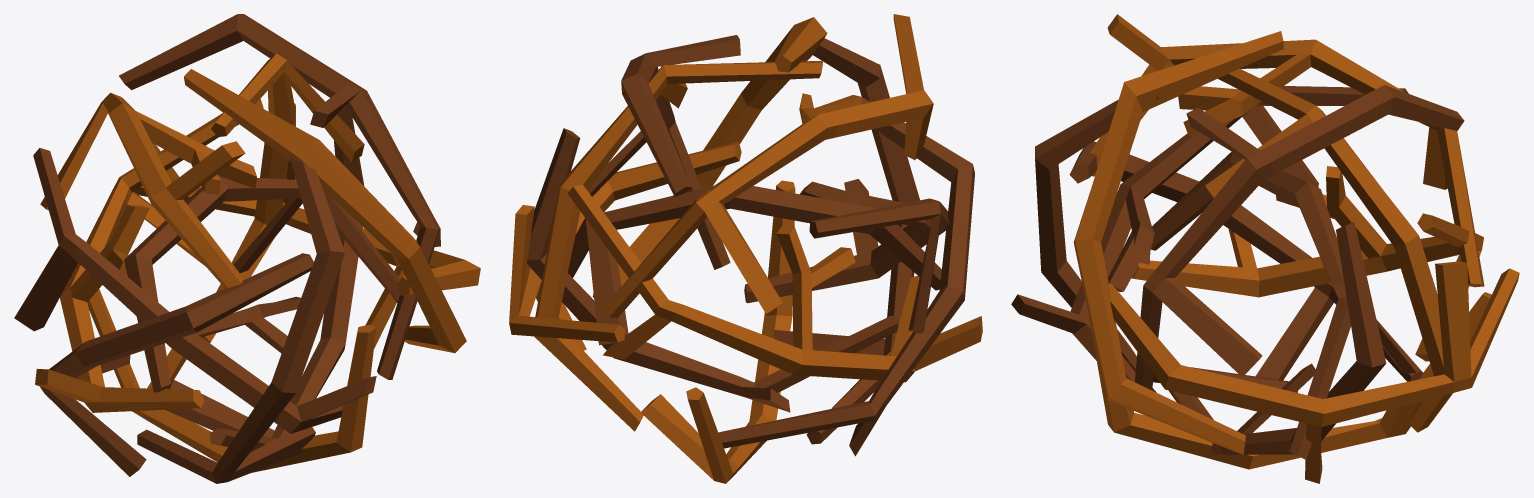
The model's file is Bola_rodante.fbx.
3 views of the same model, side by side, from view 1: azimuth 30°, elevation 25°; view 2: azimuth 150°, elevation 25°; view 3: azimuth 270°, elevation 25° (orthographic). The views are drawn at different scales.
Visible parts, largest first — view 1: Cylinder.005; view 2: Cylinder.005; view 3: Cylinder.005.
Part boxes in pixels (left/top/right/bottom): Cylinder.005: left=14, top=14, right=480, bottom=483; Cylinder.005: left=509, top=14, right=982, bottom=483; Cylinder.005: left=1011, top=14, right=1519, bottom=483.
Bounding box in the file's own units: 363 × 332 × 367.
